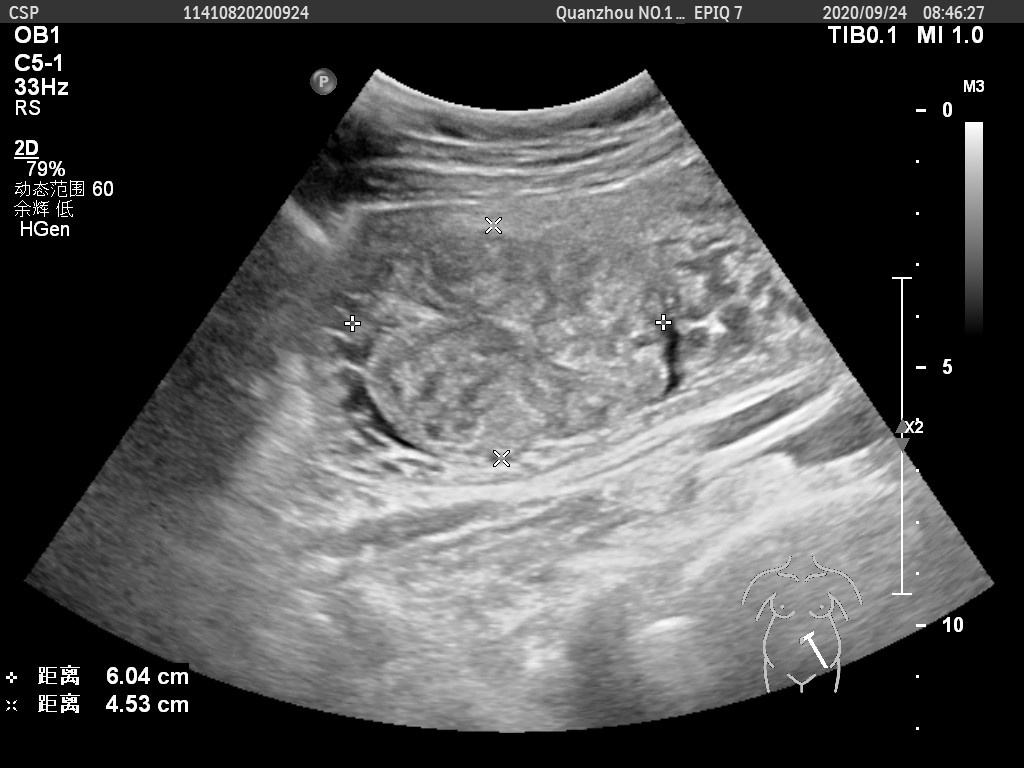肌瘤: (354, 223, 666, 462)
